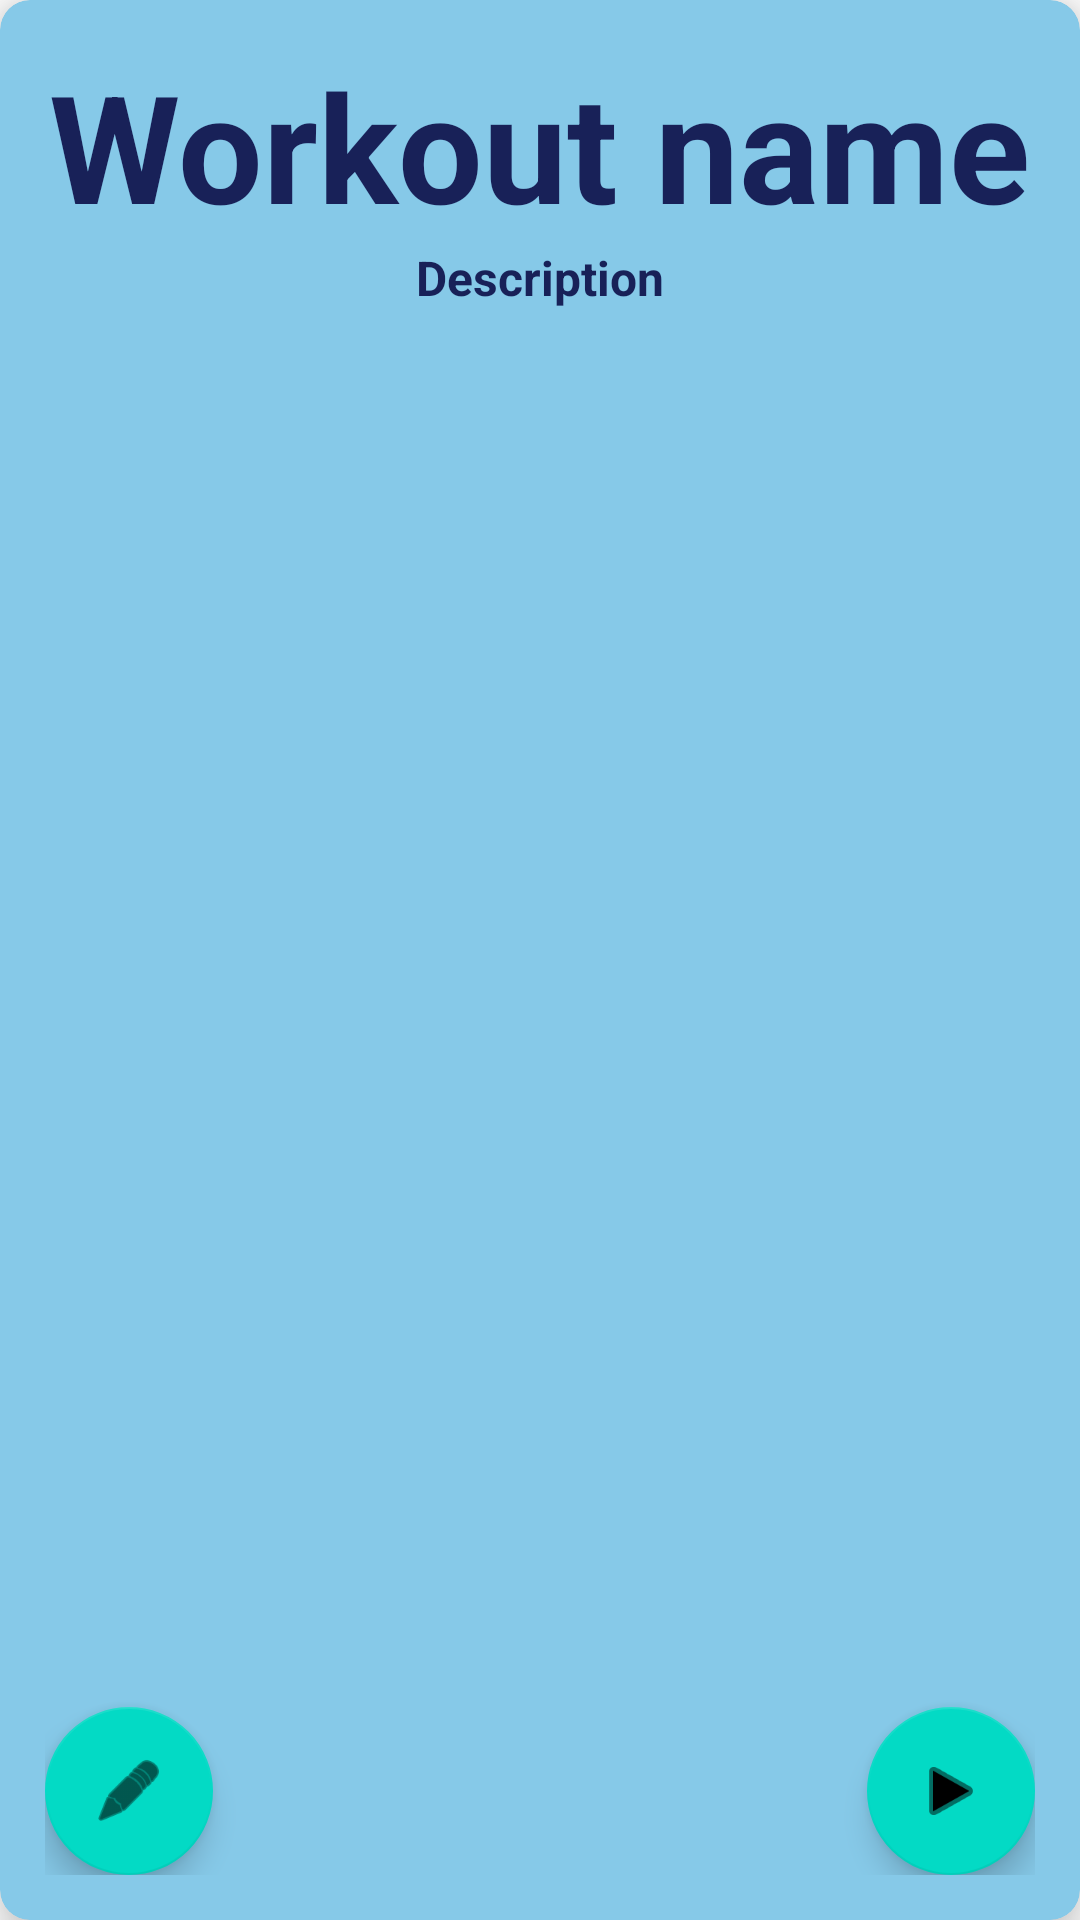

Icons on this 1080x1920 Android screen, each with the point to tap as [x,y]:
edit: [129,1791]
play: [951,1791]
